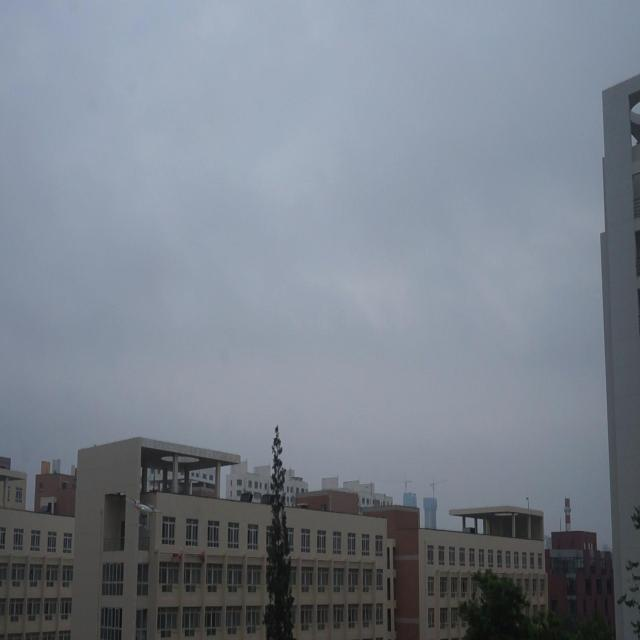drone: (131, 494, 158, 528)
